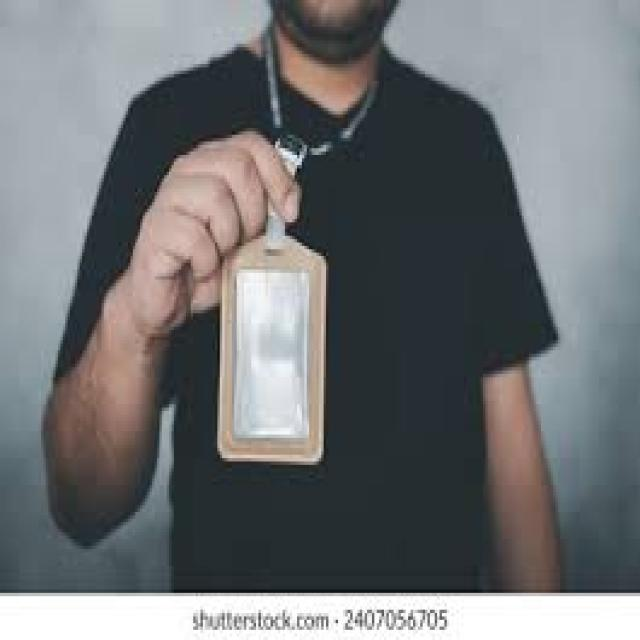id_card: (218, 42, 346, 482)
